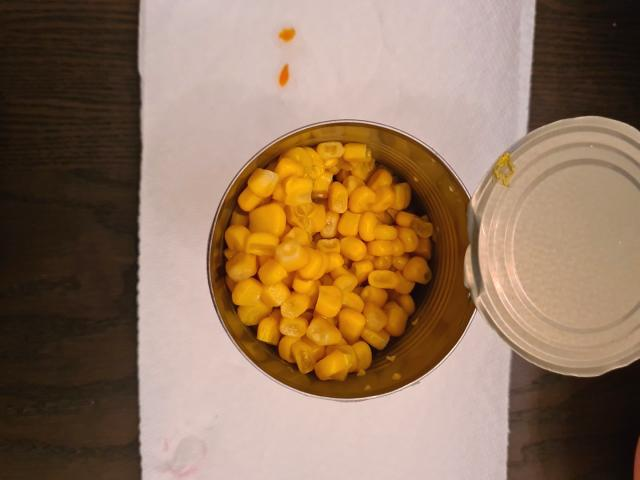kichen waste: (224, 142, 433, 380)
